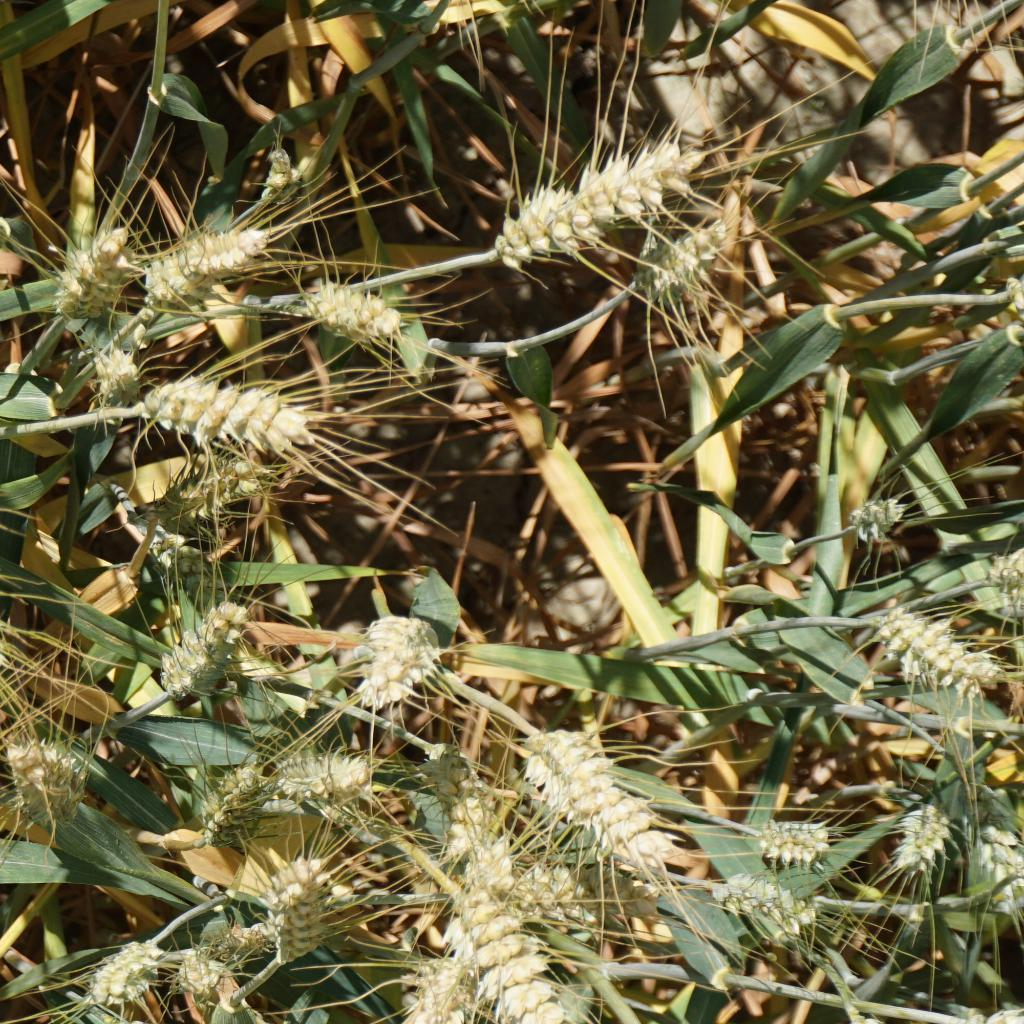0-0: (482, 132, 728, 276), (507, 718, 690, 879), (133, 371, 330, 470), (455, 907, 594, 1024), (148, 583, 271, 706), (139, 211, 279, 304), (632, 200, 740, 305), (410, 734, 499, 857), (876, 611, 998, 698), (49, 222, 140, 328), (348, 607, 437, 714), (284, 276, 413, 344), (957, 779, 1024, 908), (8, 733, 95, 828), (260, 861, 335, 968), (278, 747, 385, 811), (202, 743, 273, 837), (88, 925, 163, 1001), (712, 875, 813, 931), (159, 458, 254, 516), (400, 958, 480, 1024), (456, 833, 512, 925), (150, 522, 218, 596), (743, 816, 836, 867), (841, 490, 908, 554), (524, 860, 585, 926), (244, 140, 297, 212), (166, 943, 225, 1003), (828, 995, 945, 1024), (900, 798, 946, 869), (84, 355, 136, 409), (968, 999, 1024, 1024)
